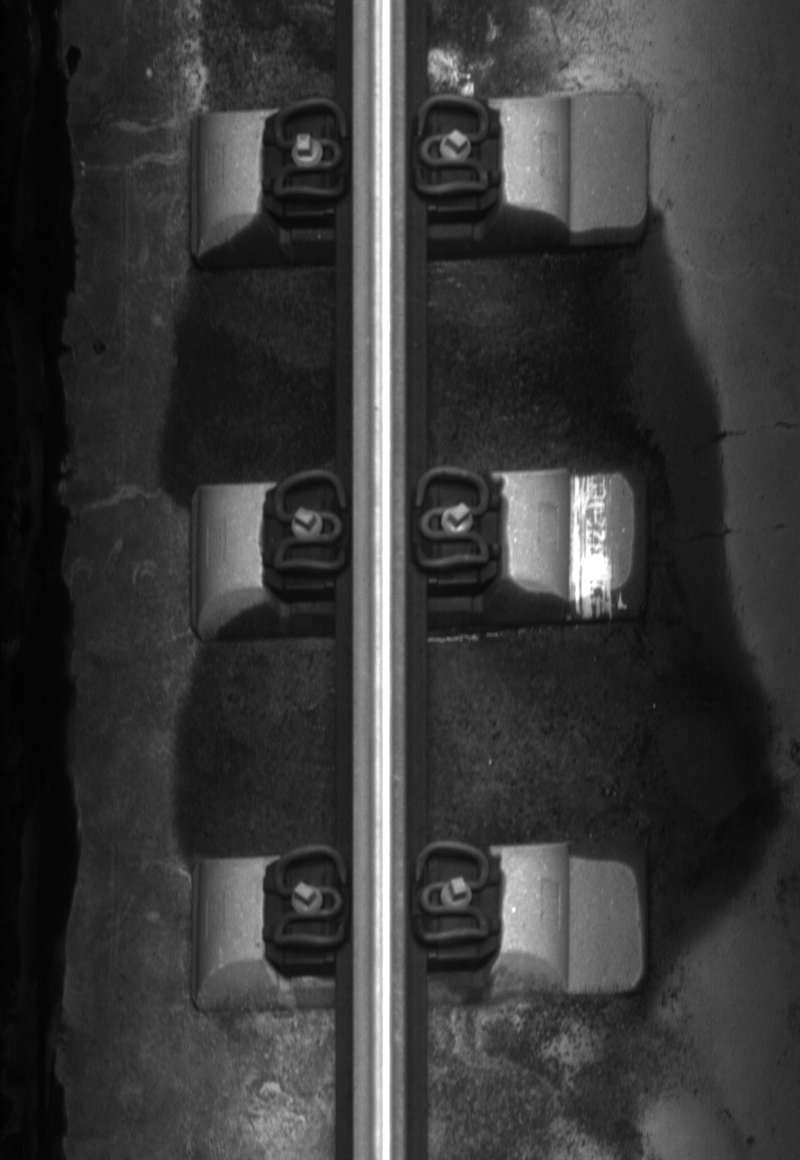l_faster: (267, 463, 352, 586), (267, 92, 351, 214), (267, 838, 352, 955)
r_faster: (409, 457, 496, 578), (408, 88, 495, 207), (408, 833, 493, 951)
